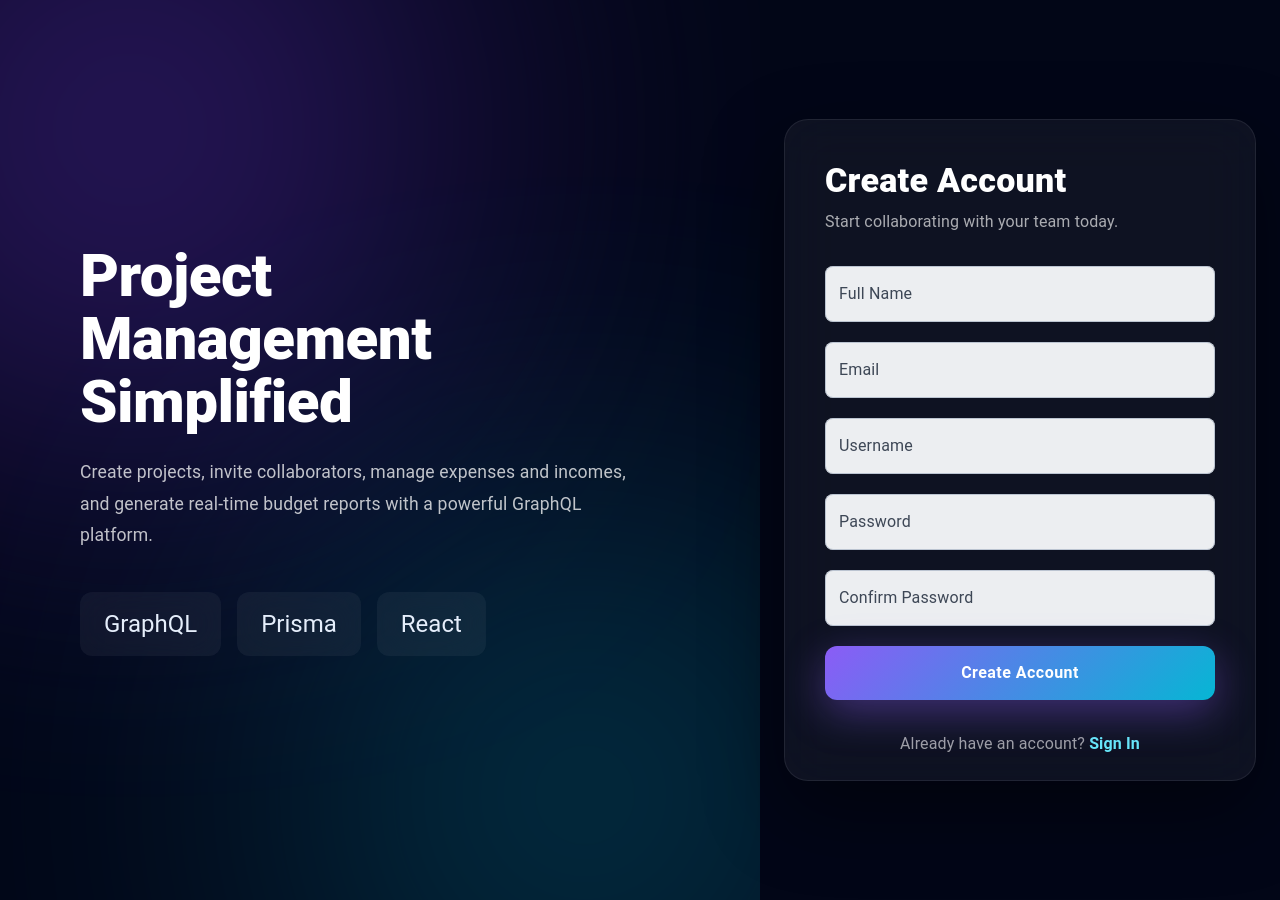
Test: Signup › registers a new user successfully
Type "Jane Doe" into the field labelled "Full Name" at (1020, 294), box [825, 266, 1215, 322]
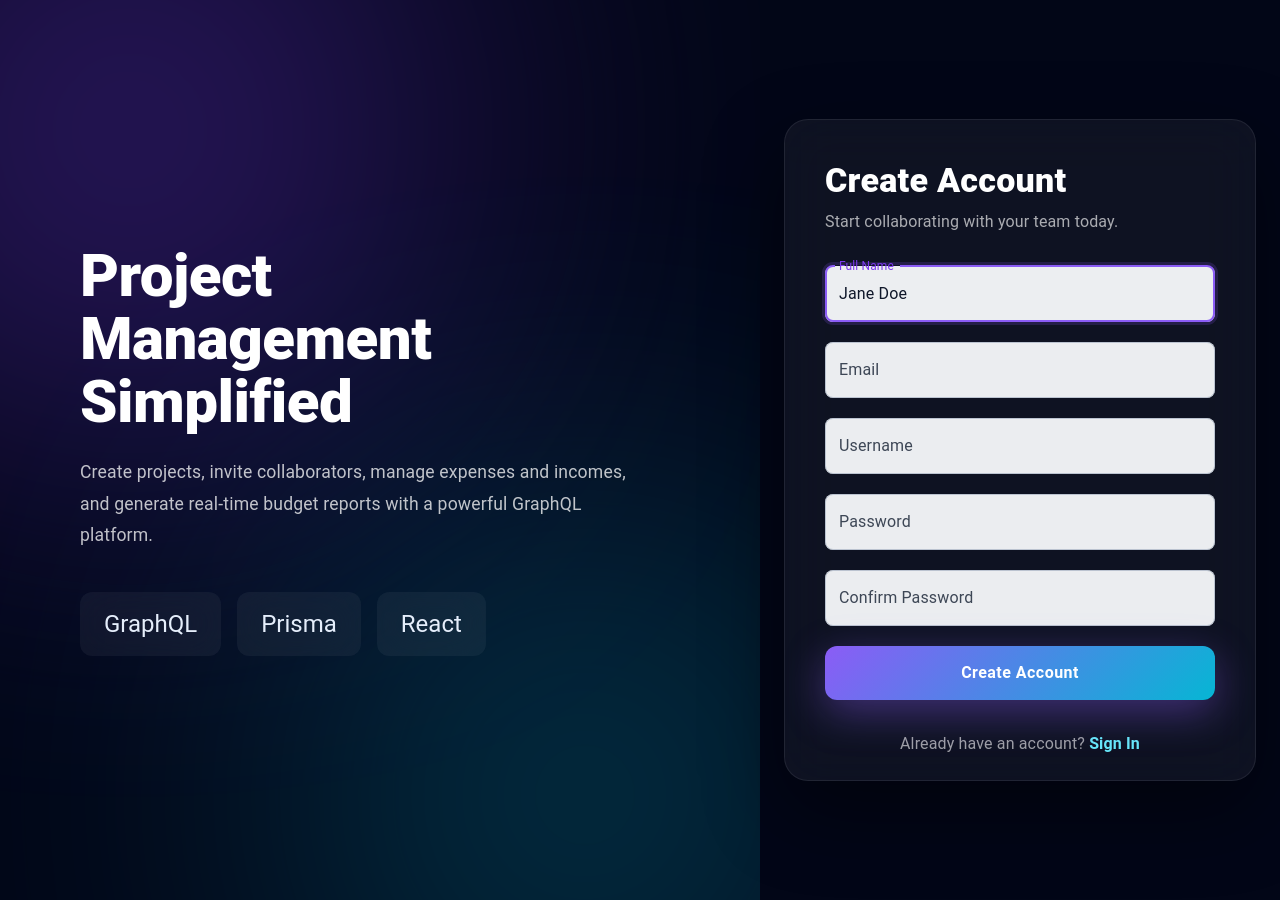
Type "jane@example.com" into the field labelled "Email" at (1020, 370), box [825, 342, 1215, 398]
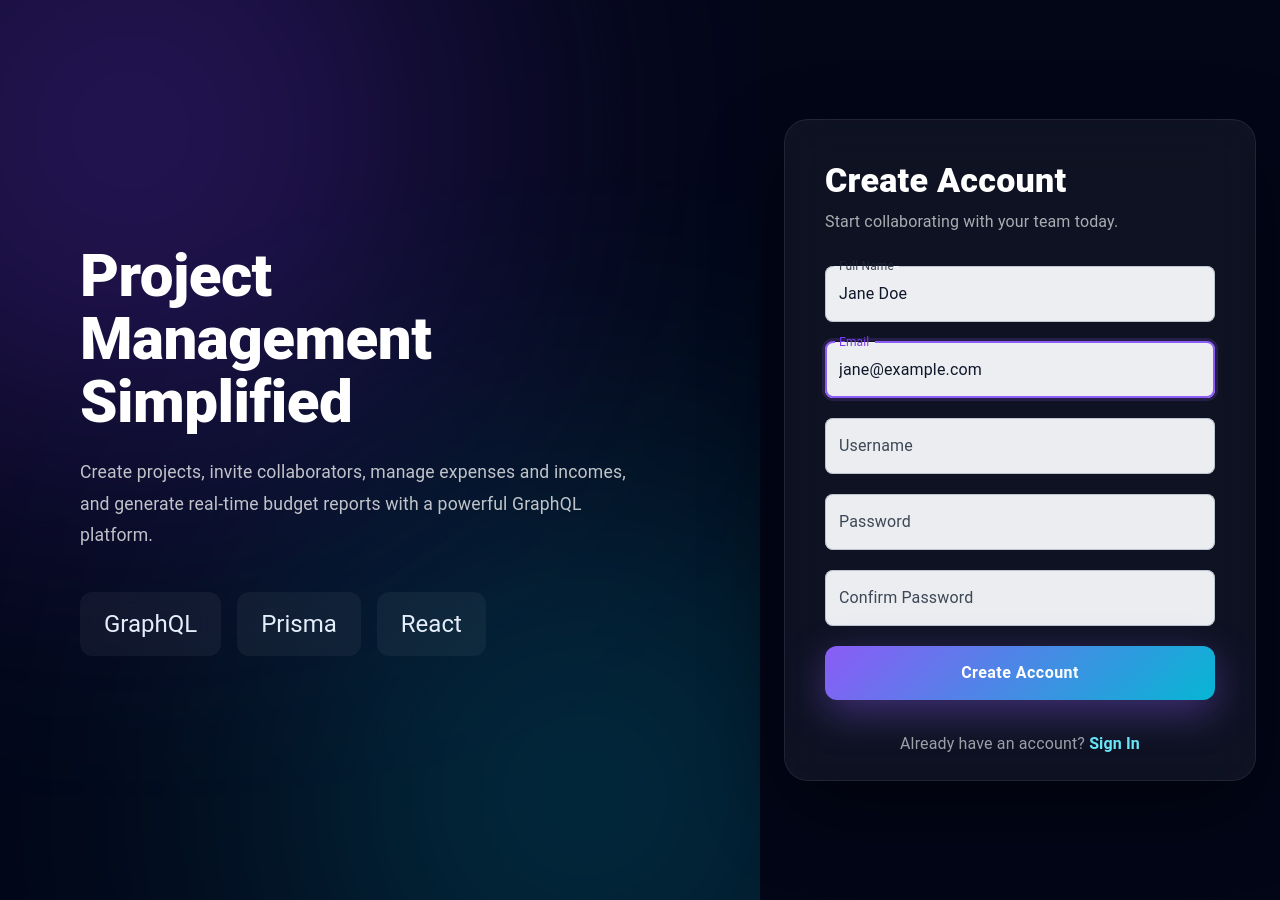
Type "janedoe" into the field labelled "Username" at (1020, 446), box [825, 418, 1215, 474]
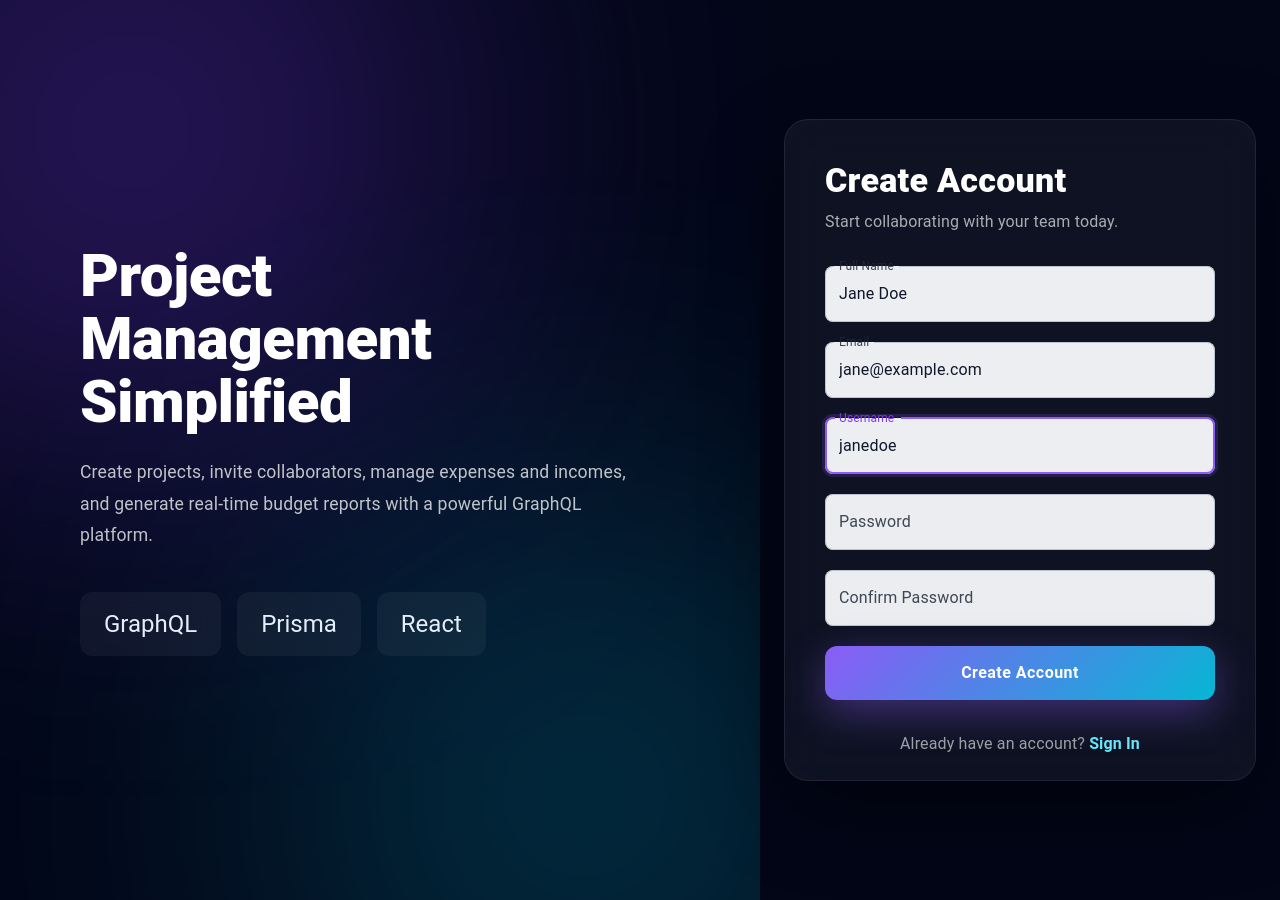
Type "password123" into the password field labelled "Password" at (1020, 522), box [825, 494, 1215, 550]
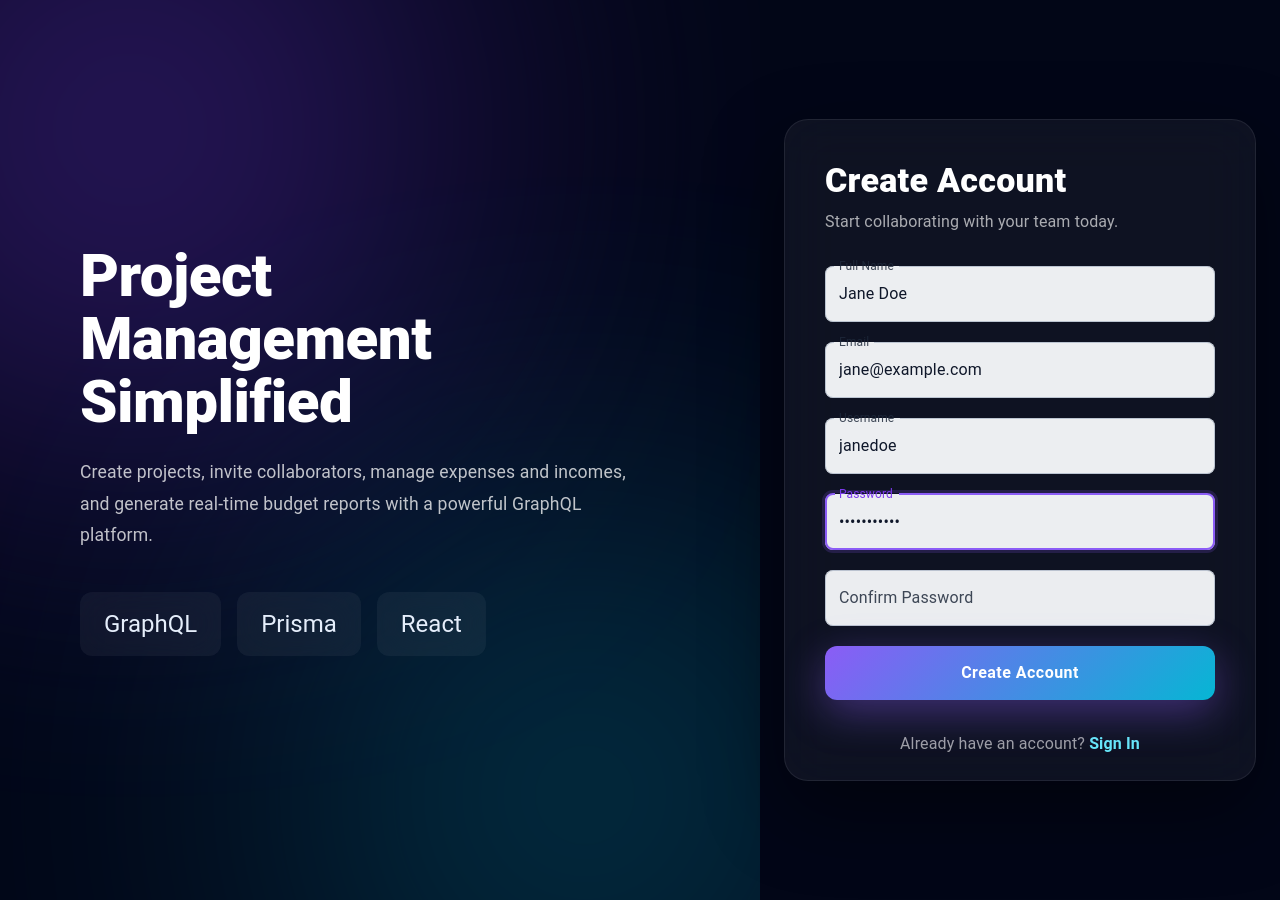
Type "password123" into the password field labelled "Confirm Password" at (1020, 598), box [825, 570, 1215, 626]
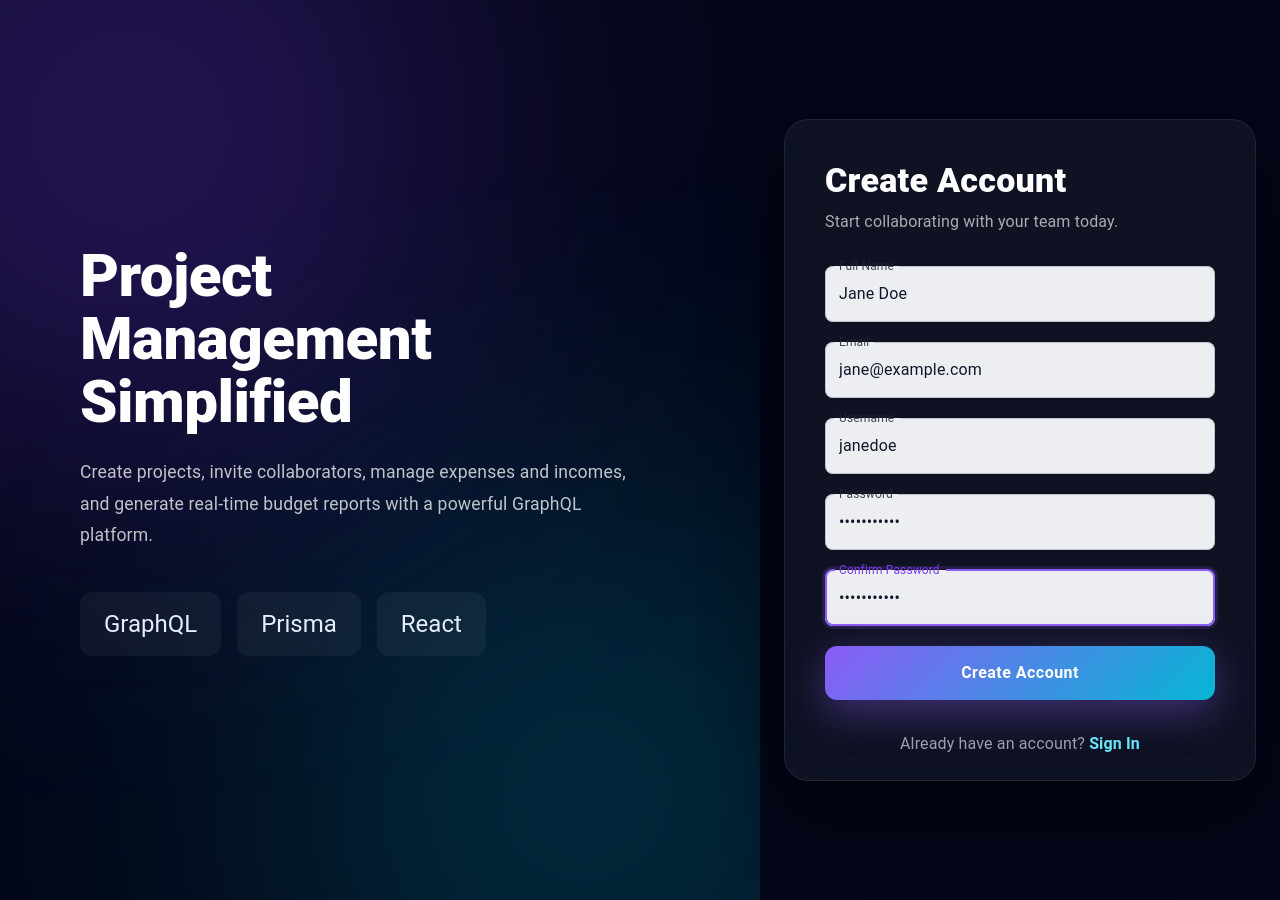
Click the button "Create Account" at (1020, 673), box [825, 646, 1215, 700]
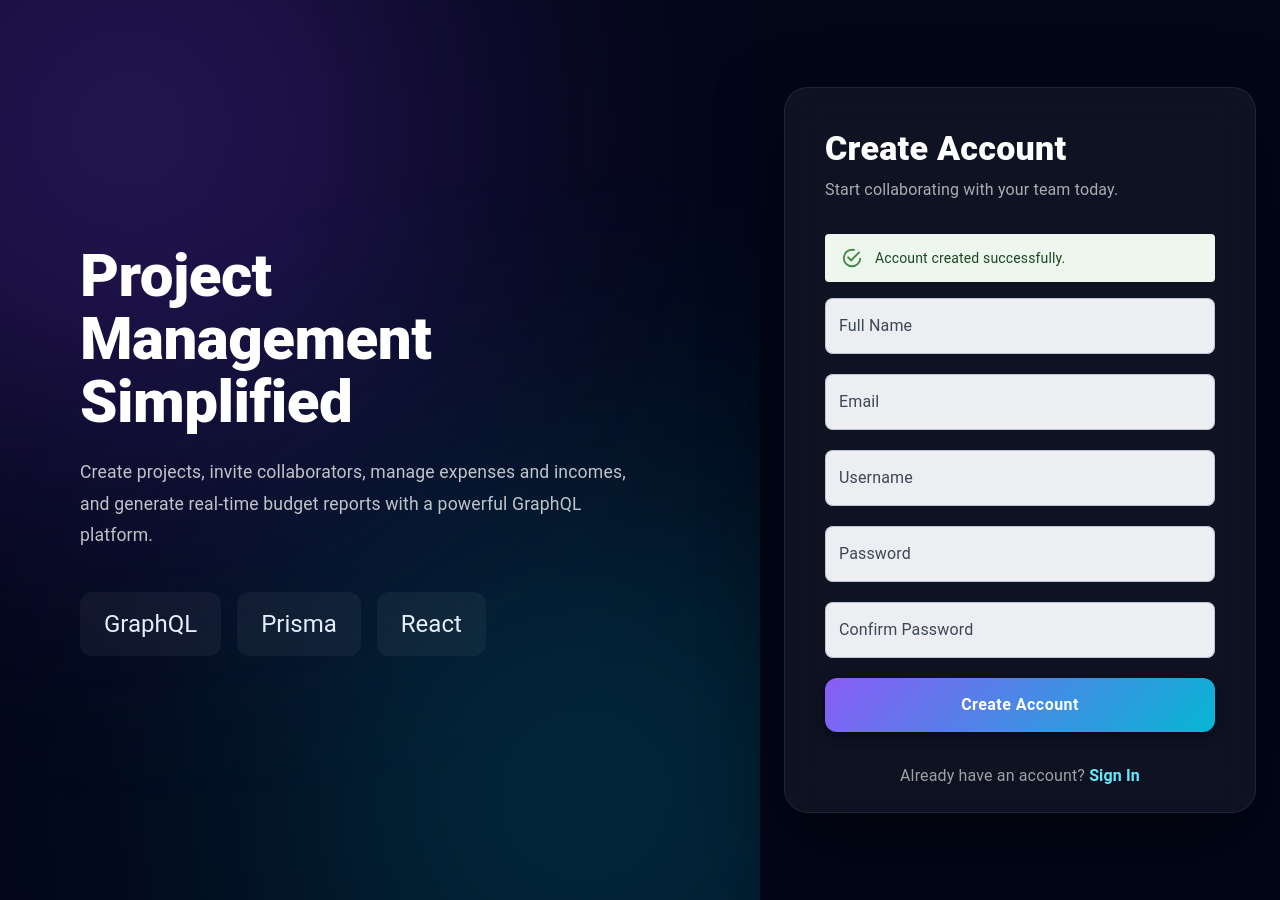
Expected: the text "Account created successfully." is shown, [875, 250, 1065, 266]
